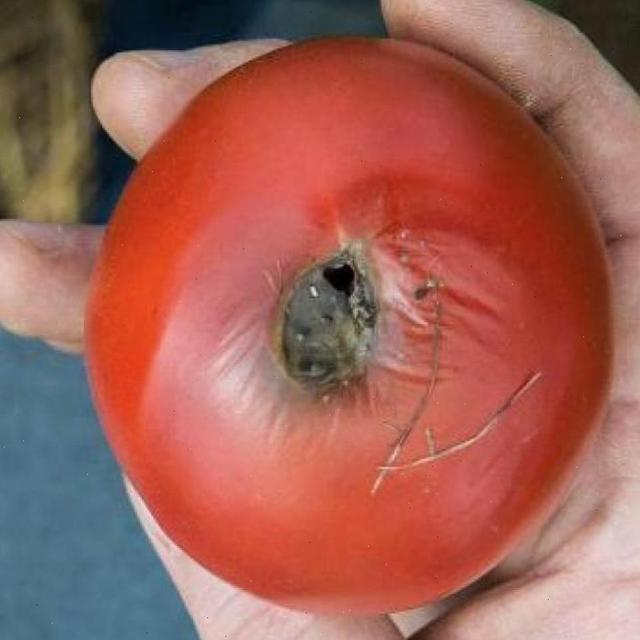Blossom End Rot Fruit: (171, 156, 262, 282)
